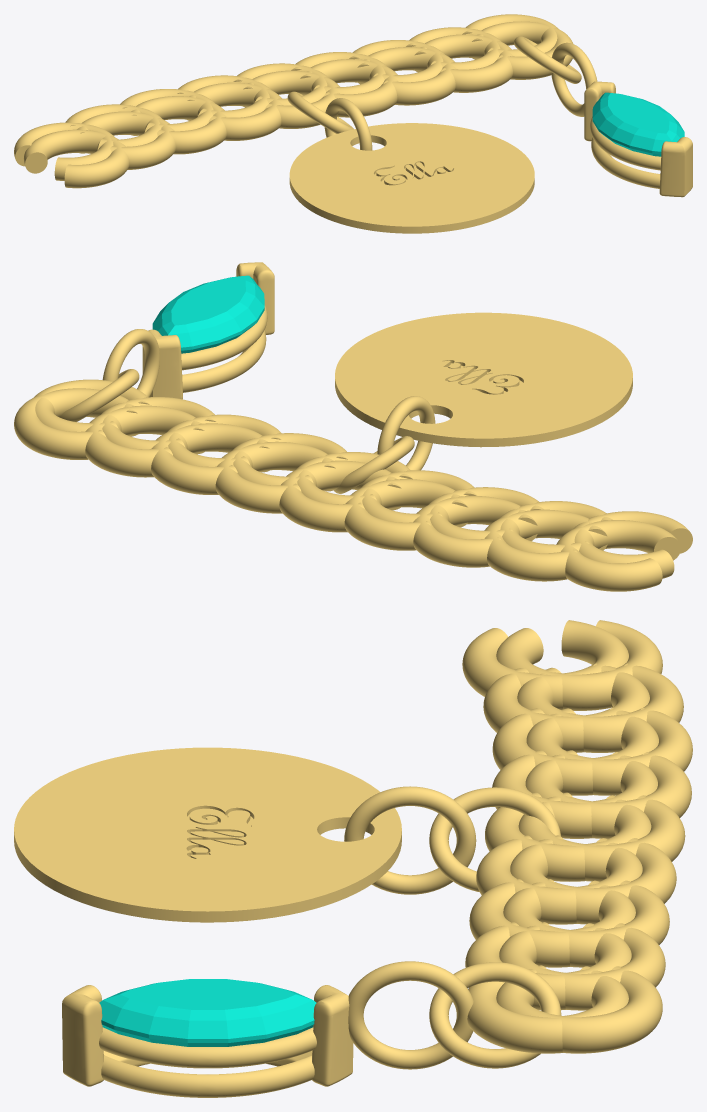
File: Leslie charm v2.glb
3 views of the same model, one above another, from view 1: azimuth 30°, elevation 25°; view 2: azimuth 150°, elevation 25°; view 3: azimuth 270°, elevation 25° (orthographic). The views are drawn at different scales.
Parts seen in each view (by area): view 1: v2 YG for 3d model, v2 tourmaline for 3d model; view 2: v2 YG for 3d model, v2 tourmaline for 3d model; view 3: v2 YG for 3d model, v2 tourmaline for 3d model.
Part boxes in pixels (<box>): v2 YG for 3d model: <box>14,14,692,233</box>; v2 tourmaline for 3d model: <box>592,92,684,156</box>; v2 YG for 3d model: <box>14,262,692,591</box>; v2 tourmaline for 3d model: <box>152,275,264,353</box>; v2 YG for 3d model: <box>14,620,692,1097</box>; v2 tourmaline for 3d model: <box>99,979,316,1046</box>.
Size of the model in its own units: 39.96 by 5.15 by 27.79.
